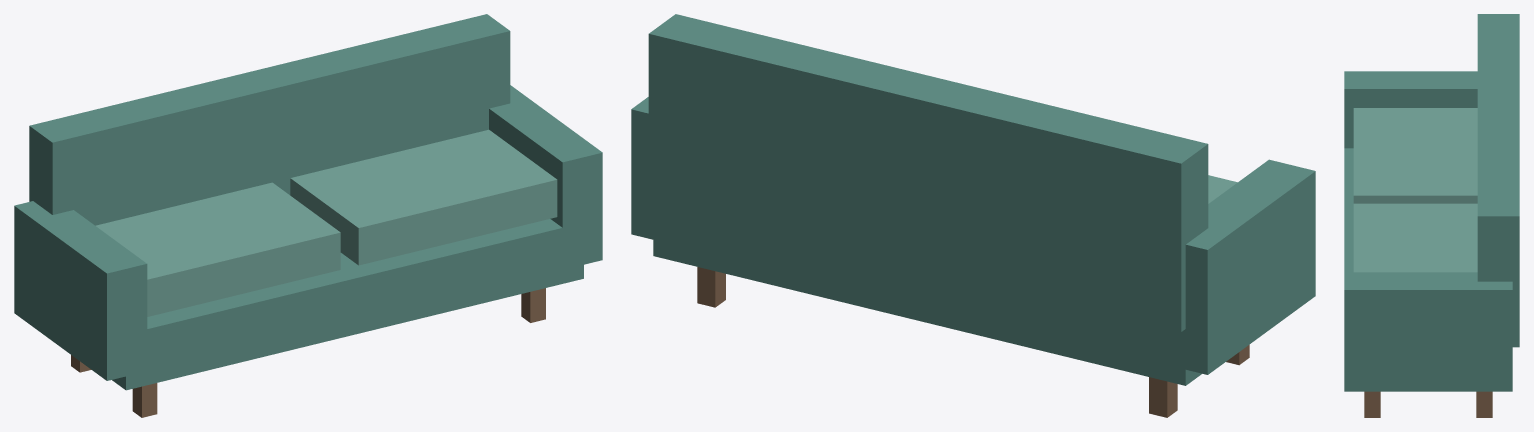
The model's file is lounge-sofa.gltf.
3 renders of one model, left to right at view 1: azimuth 30°, elevation 25°; view 2: azimuth 150°, elevation 25°; view 3: azimuth 270°, elevation 25°, orthographic. The views are drawn at different scales.
Parts seen in each view (by area): view 1: back, base, cushion-r, cushion-l, arm-l, arm-r, leg (×2); view 2: back, base, arm-l, arm-r, leg (×2); view 3: arm-r, back, cushion-l, cushion-r, arm-l, base, leg (×2).
Boxes of the visible parts, x1,y1,x2,y2 form: back: [29, 14, 510, 225]; base: [112, 219, 583, 390]; cushion-r: [290, 129, 557, 265]; cushion-l: [95, 182, 340, 316]; arm-l: [14, 201, 147, 380]; arm-r: [489, 85, 602, 269]; leg (×2): [132, 288, 545, 417]; back: [648, 14, 1208, 331]; base: [653, 203, 1201, 385]; arm-l: [1161, 159, 1315, 374]; arm-r: [631, 97, 677, 244]; leg (×2): [697, 267, 1177, 417]; arm-r: [1344, 272, 1512, 387]; back: [1477, 14, 1519, 347]; cushion-l: [1353, 108, 1477, 203]; cushion-r: [1353, 203, 1477, 272]; arm-l: [1344, 71, 1477, 148]; base: [1344, 148, 1512, 391]; leg (×2): [1364, 391, 1492, 417].
Size of the model in its own units: 2.22 by 1.01 by 0.75.
